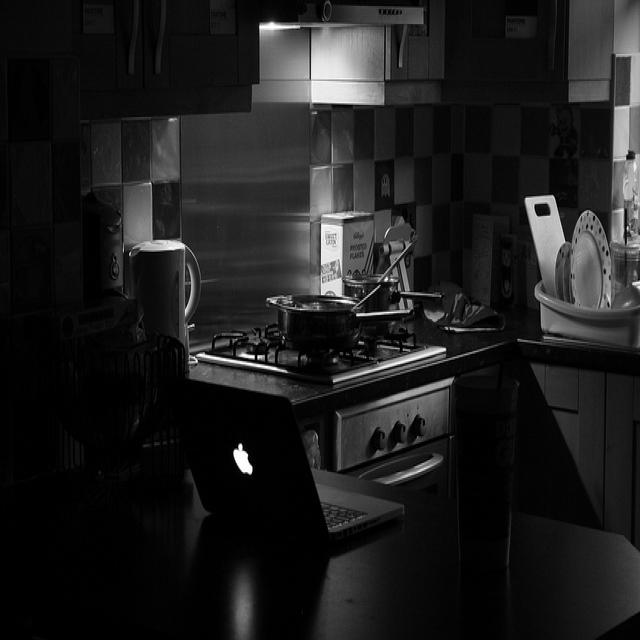Cup: (461, 360, 524, 640)
Table: (0, 465, 640, 640)
